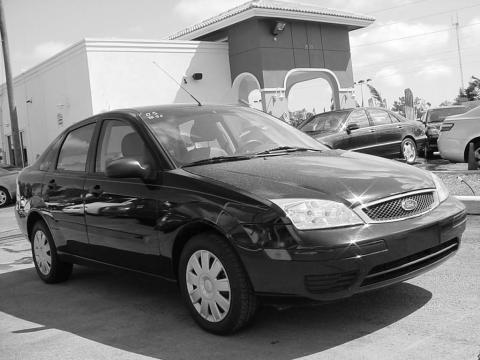car: (12, 61, 468, 337)
